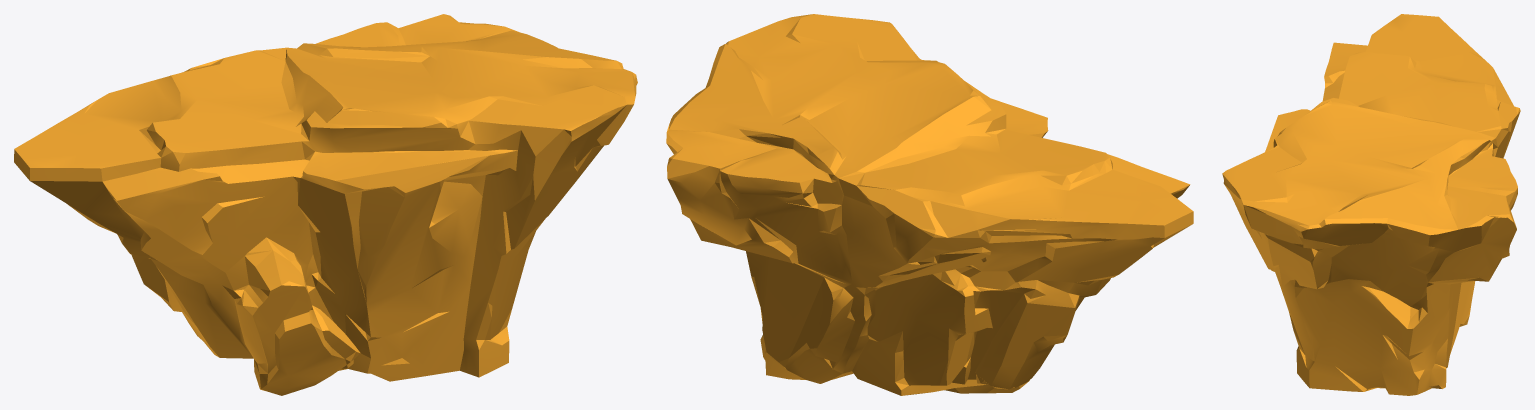
Rendered from SM_Iceberg_Medium_D.fbx.
3 views of the same model, side by side, from view 1: azimuth 30°, elevation 25°; view 2: azimuth 150°, elevation 25°; view 3: azimuth 270°, elevation 25° (orthographic). The views are drawn at different scales.
Visible parts, largest first — view 1: iceberg-medium-d; view 2: iceberg-medium-d; view 3: iceberg-medium-d.
Boxes of the visible parts, left/top/right/bottom form: iceberg-medium-d: left=14, top=14, right=637, bottom=395; iceberg-medium-d: left=666, top=14, right=1193, bottom=395; iceberg-medium-d: left=1222, top=14, right=1520, bottom=395.
Size of the model in its own units: 14.57 by 7.3 by 8.48.
